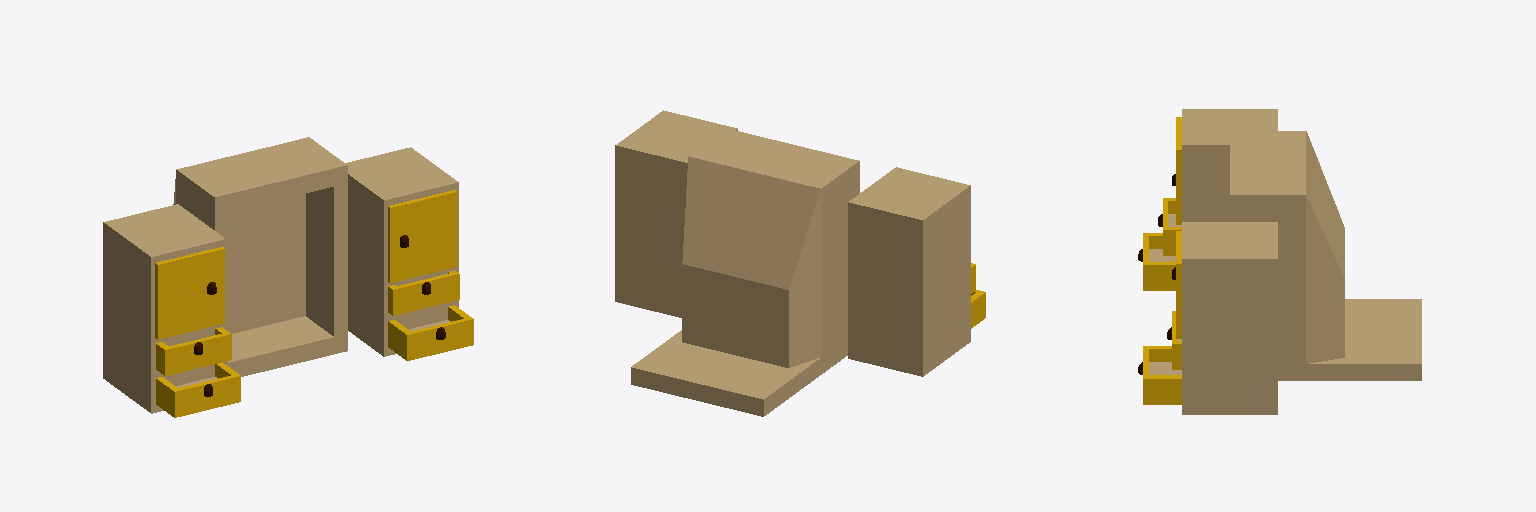
File: WardrobeSet.obj
The picture shows the model from 3 angles: view 1: azimuth 30°, elevation 25°; view 2: azimuth 150°, elevation 25°; view 3: azimuth 270°, elevation 25°; orthographic projection.
Visible parts, largest first — view 1: mergedBlocks; view 2: mergedBlocks; view 3: mergedBlocks.
Part boxes in pixels (left/top/right/bottom): mergedBlocks: left=103, top=137, right=473, bottom=417; mergedBlocks: left=615, top=110, right=985, bottom=416; mergedBlocks: left=1138, top=109, right=1421, bottom=414.
Size of the model in its own units: 1.85 by 1.07 by 1.48.